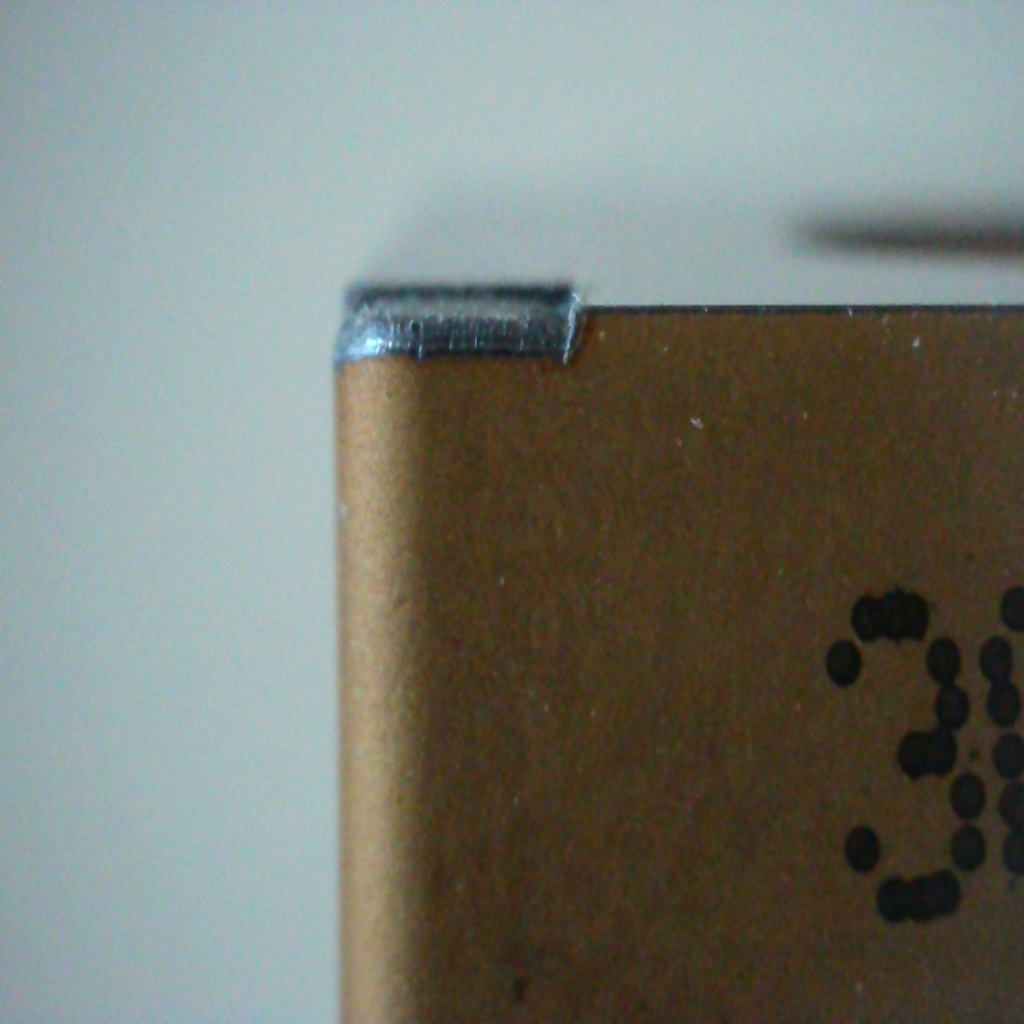flank_wear: (321, 289, 587, 374)
